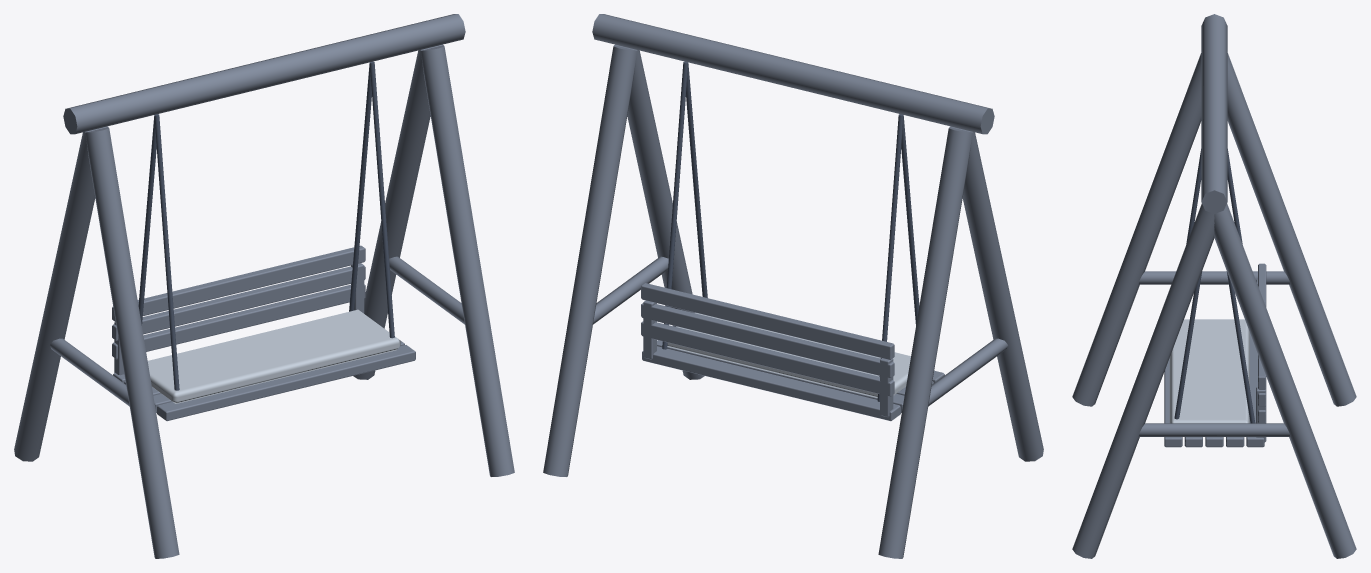
File: garden-swing-lite.glb
3 views of the same model, side by side, from view 1: azimuth 30°, elevation 25°; view 2: azimuth 150°, elevation 25°; view 3: azimuth 270°, elevation 25° (orthographic). The views are drawn at different scales.
Parts seen in each view (by area): view 1: garden-swing; view 2: garden-swing; view 3: garden-swing.
Part boxes in pixels (left/top/right/bottom): garden-swing: left=14, top=14, right=514, bottom=558; garden-swing: left=543, top=14, right=1043, bottom=558; garden-swing: left=1072, top=14, right=1356, bottom=558.
Size of the model in its own units: 2.2 by 2.2 by 1.5.
